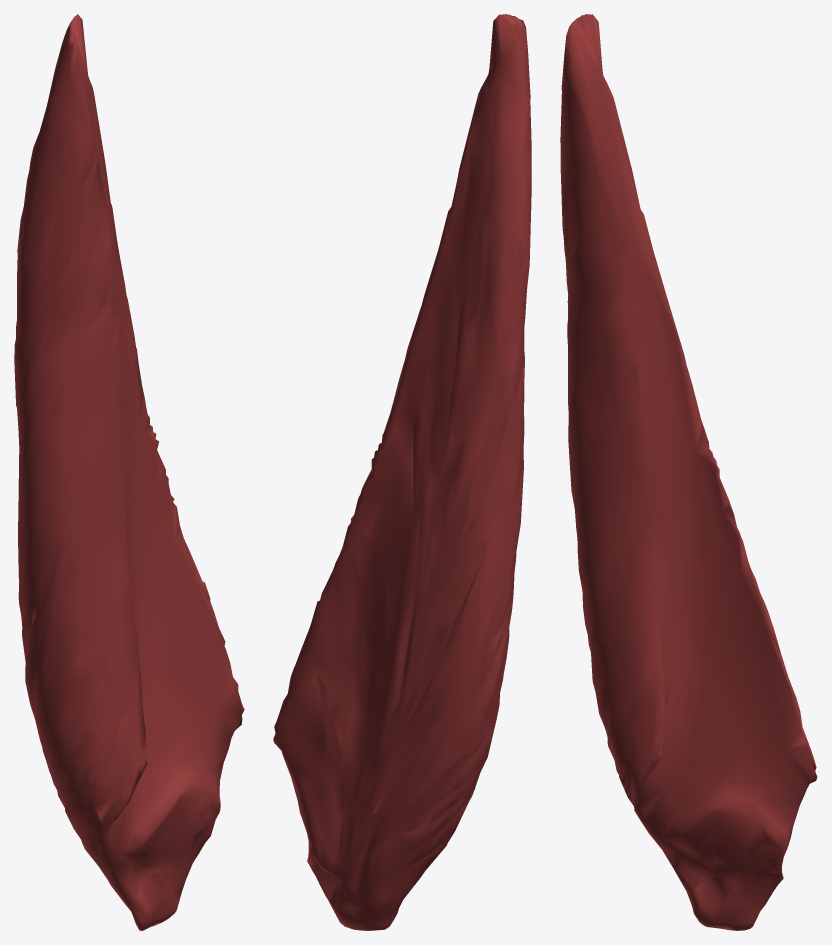
File: medial-head-of-triceps-brachii-l.glb
The picture shows the model from 3 angles, left to right: view 1: azimuth 30°, elevation 25°; view 2: azimuth 150°, elevation 25°; view 3: azimuth 330°, elevation 25°; orthographic projection. The views are drawn at different scales.
Parts seen in each view (by area): view 1: Medial head of triceps brachii.l; view 2: Medial head of triceps brachii.l; view 3: Medial head of triceps brachii.l.
Part boxes in pixels (<box>): Medial head of triceps brachii.l: <box>14,14,244,930</box>; Medial head of triceps brachii.l: <box>273,14,531,930</box>; Medial head of triceps brachii.l: <box>560,14,817,930</box>.
Size of the model in its own units: 0.0623 by 0.2343 by 0.0267.
